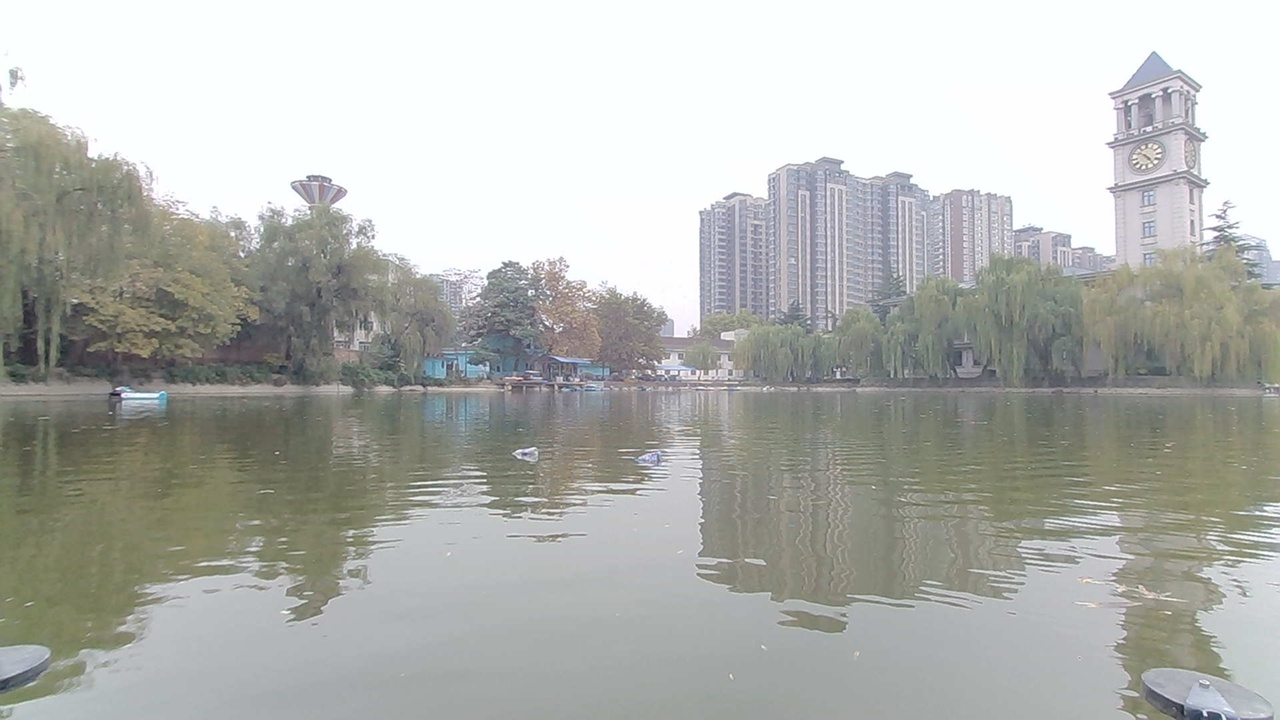bottle: (511, 436, 550, 462), (635, 451, 668, 468)
